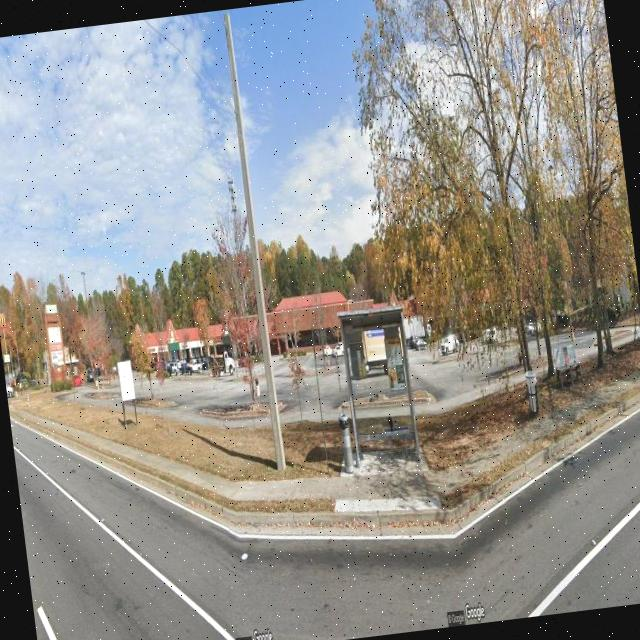seating: (550, 341, 585, 394), (382, 421, 413, 461)
shelter: (336, 303, 423, 472)
trash_can: (337, 411, 355, 471), (524, 368, 541, 418)
